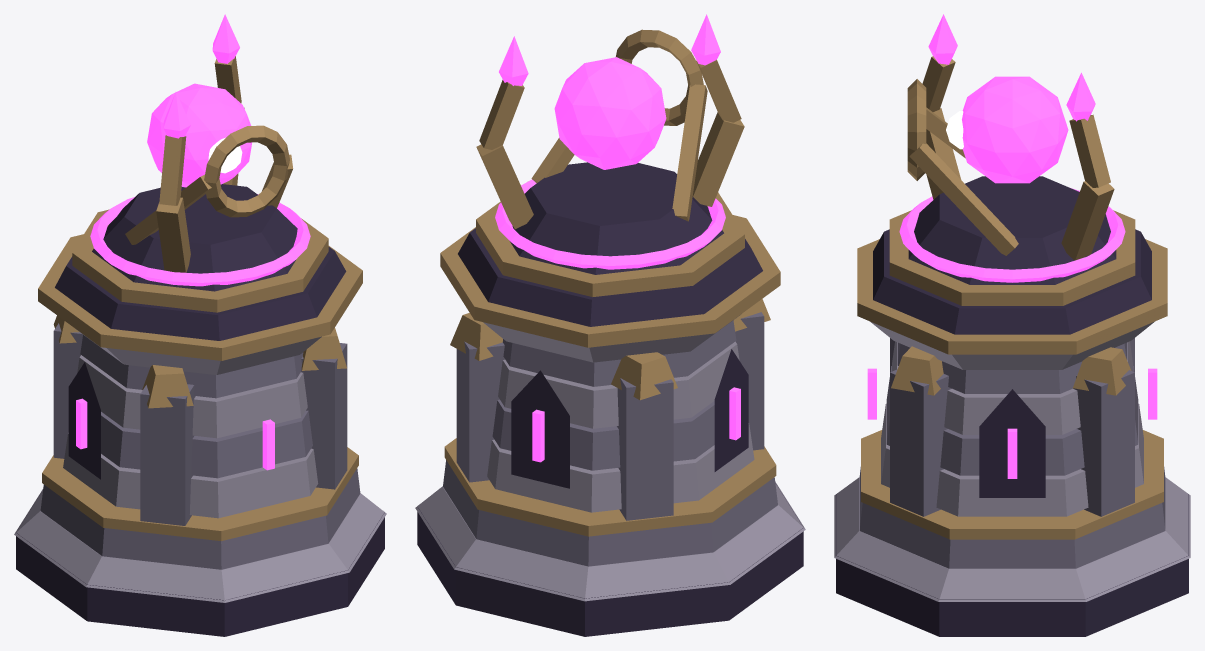
Rendered from Magic_Tower_L1.fbx.
3 views of the same model, side by side, from view 1: azimuth 30°, elevation 25°; view 2: azimuth 150°, elevation 25°; view 3: azimuth 270°, elevation 25° (orthographic). The views are drawn at different scales.
Visible parts, largest first — view 1: Base_L1, Head_L1; view 2: Base_L1, Head_L1; view 3: Base_L1, Head_L1.
Part boxes in pixels (x1,y1,x2,y2): Base_L1: (14, 234, 386, 636); Head_L1: (72, 14, 328, 312); Base_L1: (415, 215, 805, 636); Head_L1: (476, 14, 744, 296); Base_L1: (834, 229, 1190, 636); Head_L1: (889, 14, 1135, 305).
Size of the model in its own units: 1.72 by 2.76 by 1.72.
